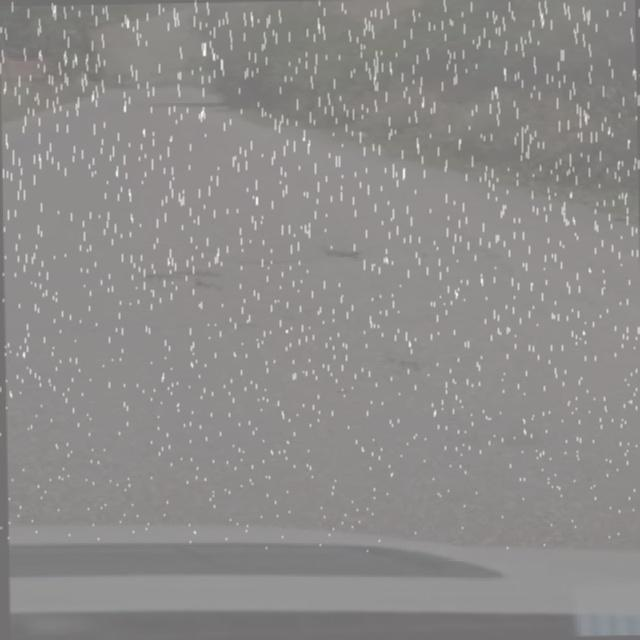Pothole: (134, 270, 238, 310), (316, 238, 382, 276), (375, 341, 426, 383), (152, 95, 226, 111)
